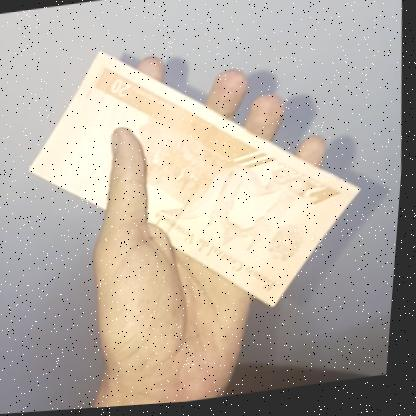twenty-back-vef: (12, 17, 386, 343)
